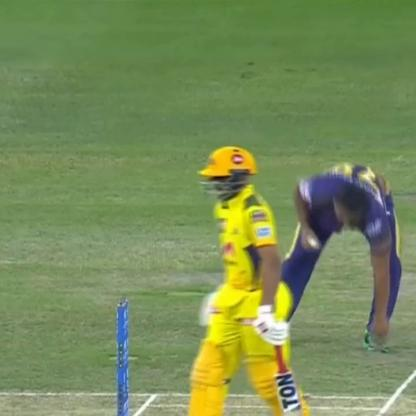ball: (301, 233, 324, 259)
